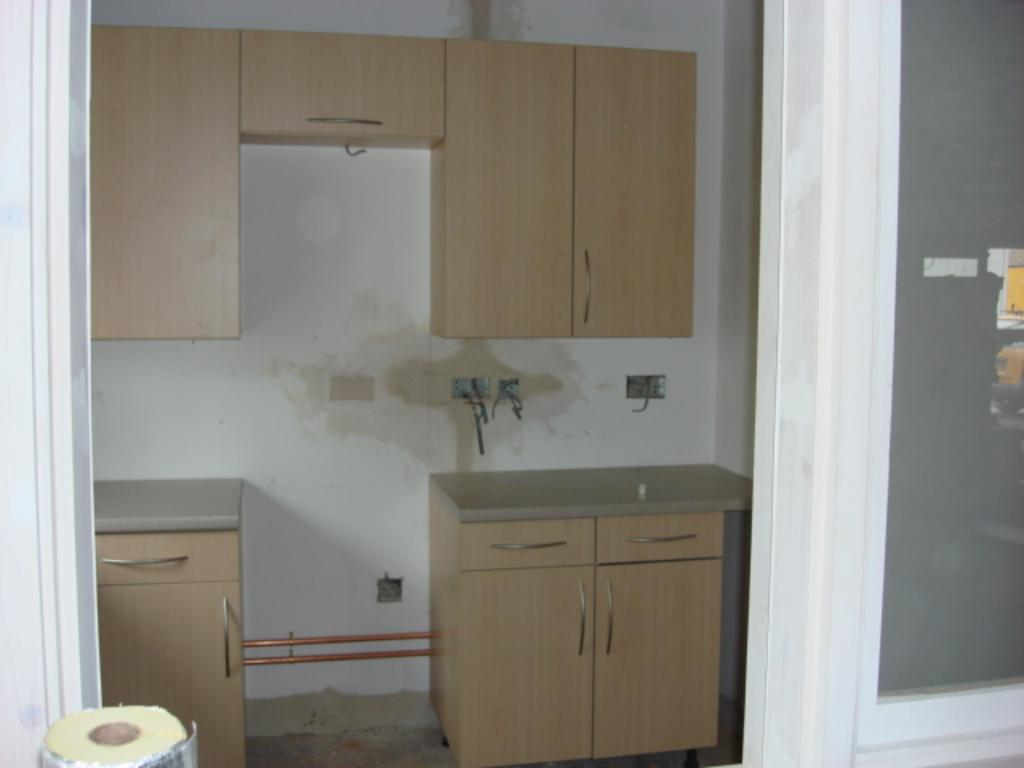cabinet_door: (578, 54, 692, 335), (464, 567, 590, 752), (103, 588, 236, 760), (238, 31, 440, 138), (600, 568, 714, 754), (460, 522, 594, 570), (93, 541, 236, 578), (604, 520, 718, 556)
handle: (100, 548, 189, 572), (494, 536, 566, 558), (314, 109, 384, 131), (578, 252, 596, 330), (572, 577, 590, 653), (602, 581, 620, 656), (630, 527, 696, 546), (216, 594, 232, 671)
